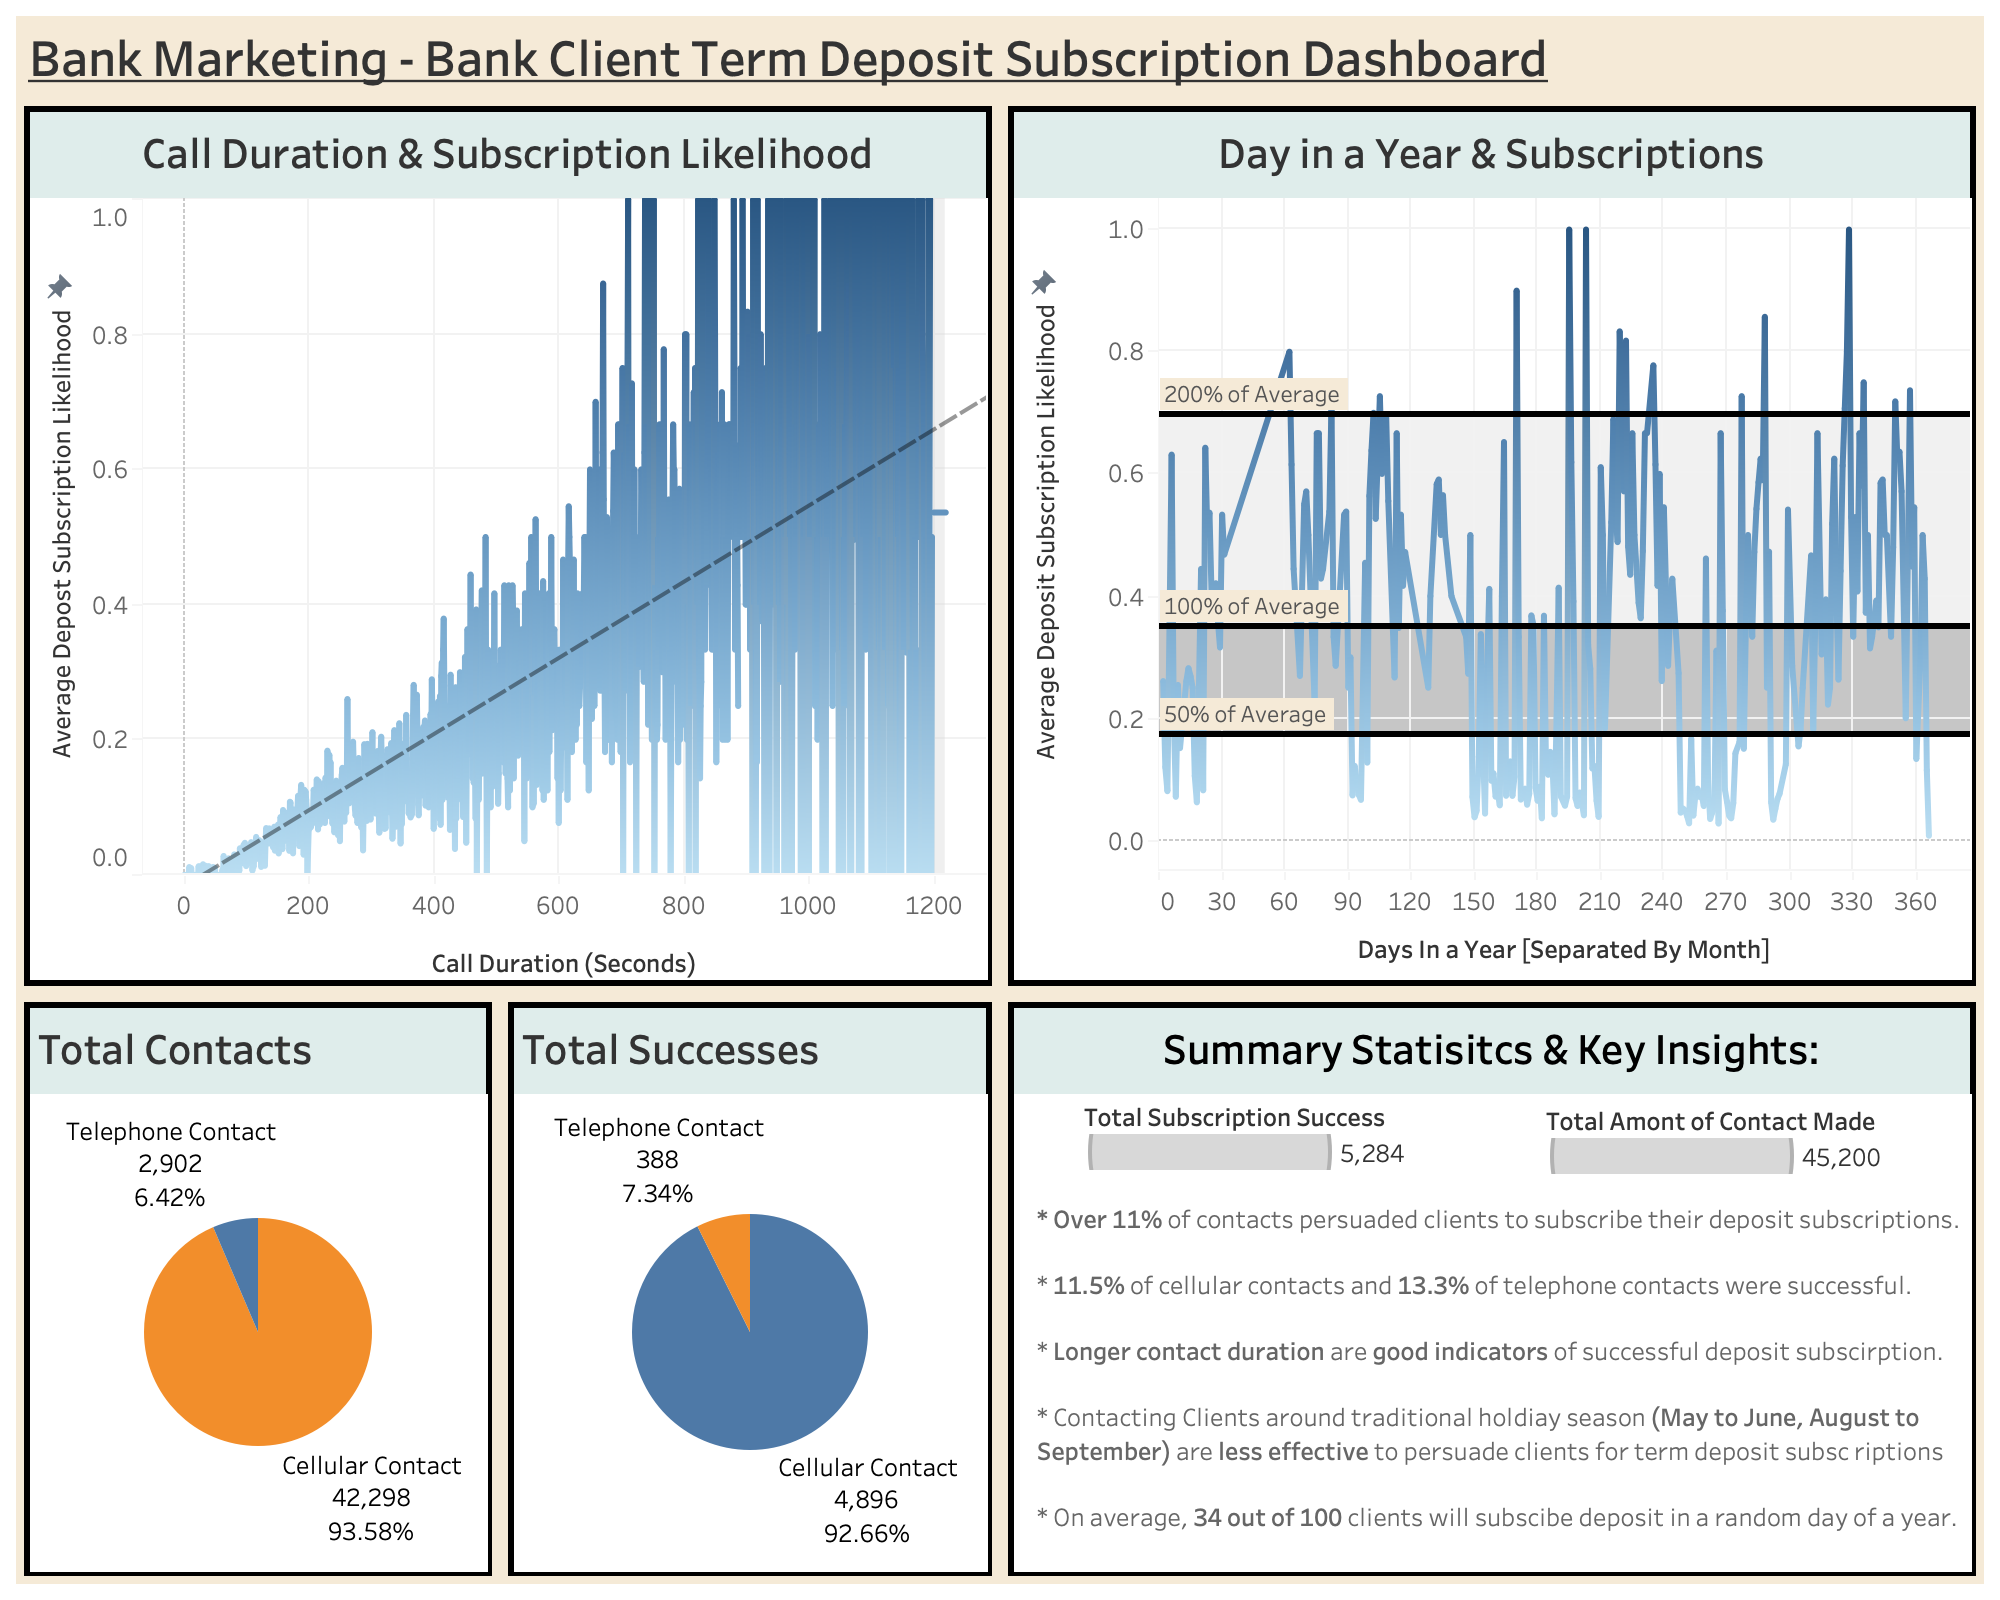

The dashboard page shown, as its layout file describes it:
{"tool":"tableau","page":{"name":"Dashboard 2","canvas":[1000,800],"ordinal":1},"visuals":[{"type":"title","box":[8,8,984,41]},{"type":"worksheet","title":"Sheet 1 (2)","mark":"Line","rows":["y"],"cols":["duration"],"box":[8,49,492,448.2]},{"type":"worksheet","title":"Sheet 5","mark":"Automatic","rows":["y"],"cols":["days_in_year"],"box":[500,49,492,448.2]},{"type":"worksheet","title":"Sheet 4","mark":"Pie","box":[8,497.2,241.9,294.8]},{"type":"worksheet","title":"Sheet 4 (4)","mark":"Pie","box":[249.9,497.2,250.1,294.8]},{"type":"worksheet","title":"Sheet 7","mark":"Automatic","cols":["Calculation_3201848295960977430"],"box":[500,497.2,492,294.8]},{"type":"filter","title":"Sheet 4 (4)","param":"[federated.18ksb6u047ocbd18k8paa0ni0f6r].[none:Calculation_3201848295919308821:n","box":[430,505,60,38]},{"type":"filter","title":"Sheet 4","param":"[federated.18ksb6u047ocbd18k8paa0ni0f6r].[none:Calculation_3201848295919308821:n","box":[180,506,62,40]},{"type":"legend","title":"Sheet 4 (4)","param":"[federated.18ksb6u047ocbd18k8paa0ni0f6r].[sum:Calculation_3201848295918800916:qk","box":[541,548,186,44]},{"type":"legend","title":"Sheet 4","param":"[federated.18ksb6u047ocbd18k8paa0ni0f6r].[usr:Calculation_3201848295880388618:qk","box":[772,550,180,41]},{"type":"text","box":[516,593,467,186]}]}

Visuals, with their boxes in screenshot pixels (x1, y1, x2, y2), scaled from the page's 1000x800 canvas onto the 2000x1600 screenshot:
title: pyautogui.locateOnScreen(16, 16, 1984, 98)
"Sheet 1 (2)" worksheet (Line marks): pyautogui.locateOnScreen(16, 98, 1000, 994)
"Sheet 5" worksheet: pyautogui.locateOnScreen(1000, 98, 1984, 994)
"Sheet 4" worksheet (Pie marks): pyautogui.locateOnScreen(16, 994, 500, 1584)
"Sheet 4 (4)" worksheet (Pie marks): pyautogui.locateOnScreen(500, 994, 1000, 1584)
"Sheet 7" worksheet: pyautogui.locateOnScreen(1000, 994, 1984, 1584)
"Sheet 4 (4)" filter: pyautogui.locateOnScreen(860, 1010, 980, 1086)
"Sheet 4" filter: pyautogui.locateOnScreen(360, 1012, 484, 1092)
"Sheet 4 (4)" legend: pyautogui.locateOnScreen(1082, 1096, 1454, 1184)
"Sheet 4" legend: pyautogui.locateOnScreen(1544, 1100, 1904, 1182)
text: pyautogui.locateOnScreen(1032, 1186, 1966, 1558)
